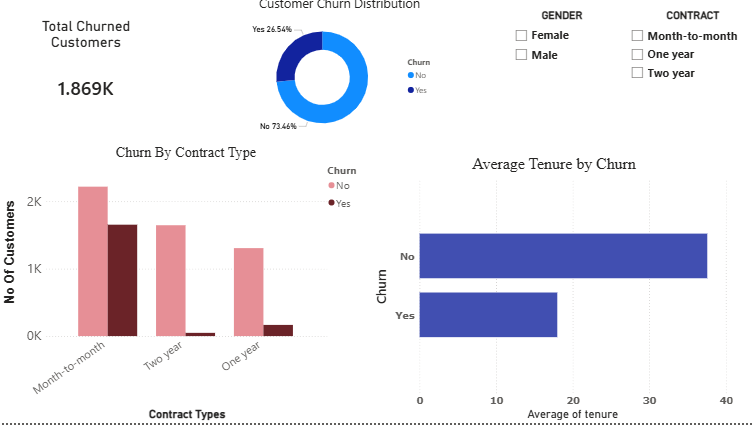

What the dashboard file says about the page in this screenshot:
{"tool":"powerbi","page":{"name":"Page 1","canvas":[1280,720],"ordinal":0},"visuals":[{"type":"cardVisual","title":"Total Churned Customers","fields":{"Data":["CountNonNull(WA_Fn-UseC_-Telco-Customer-Churn.customerID)1"]},"box":[23.5,40.3,241.9,169.7],"z":0},{"type":"donutChart","title":"Customer Churn Distribution","fields":{"Y":["CountNonNull(WA_Fn-UseC_-Telco-Customer-Churn.customerID)"],"Category":["WA_Fn-UseC_-Telco-Customer-Churn.Churn"]},"box":[393.1,0,354.4,252],"z":1000},{"type":"clusteredColumnChart","title":"Churn By Contract Type","fields":{"Category":["WA_Fn-UseC_-Telco-Customer-Churn.Contract"],"Y":["CountNonNull(WA_Fn-UseC_-Telco-Customer-Churn.customerID)"],"Series":["WA_Fn-UseC_-Telco-Customer-Churn.Churn"]},"box":[0,252,624.9,468.7],"z":2000},{"type":"clusteredBarChart","title":"Average Tenure by Churn","fields":{"Category":["WA_Fn-UseC_-Telco-Customer-Churn.Churn"],"Y":["Avg(WA_Fn-UseC_-Telco-Customer-Churn.tenure)"]},"box":[624.9,270.4,611.4,450.2],"z":3000},{"type":"slicer","title":"CONTRACT","fields":{"Values":["WA_Fn-UseC_-Telco-Customer-Churn.Contract"]},"box":[1048.2,25.2,231.8,144.5],"z":4000},{"type":"slicer","title":"GENDER","fields":{"Values":["WA_Fn-UseC_-Telco-Customer-Churn.gender"]},"box":[853.3,25.2,181.4,144.5],"z":4001}]}

Visuals, with their boxes in screenshot pixels (x1, y1, x2, y2), scaled from the page's 1280x720 canvas onto the 753x425 screenshot:
"Total Churned Customers" cardVisual: x1=14, y1=24, x2=156, y2=124
"Customer Churn Distribution" donutChart: x1=231, y1=0, x2=440, y2=149
"Churn By Contract Type" clusteredColumnChart: x1=0, y1=149, x2=368, y2=424
"Average Tenure by Churn" clusteredBarChart: x1=368, y1=160, x2=727, y2=424
"CONTRACT" slicer: x1=617, y1=15, x2=752, y2=100
"GENDER" slicer: x1=502, y1=15, x2=609, y2=100
